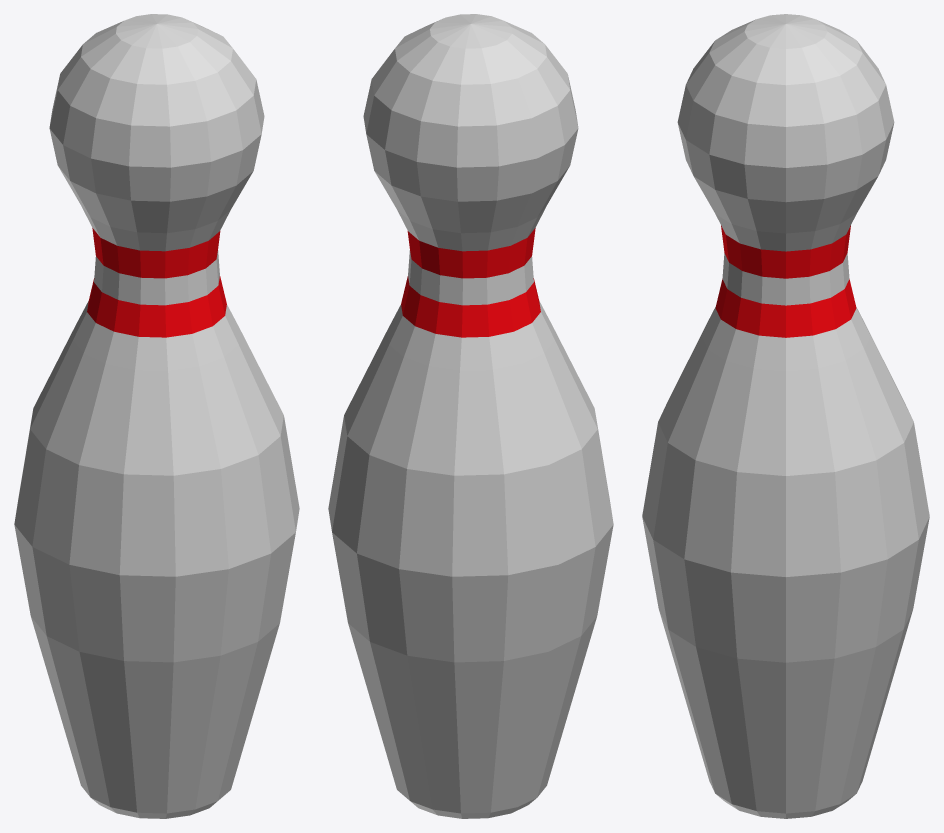
3 renders of one model, left to right at view 1: azimuth 30°, elevation 25°; view 2: azimuth 150°, elevation 25°; view 3: azimuth 270°, elevation 25°, orthographic.
Parts seen in each view (by area): view 1: BowlingPin; view 2: BowlingPin; view 3: BowlingPin.
Part boxes in pixels (x1,y1,x2,y2): BowlingPin: (14,14,299,818); BowlingPin: (328,14,613,818); BowlingPin: (642,14,929,818).
Size of the model in its own units: 613 by 1803 by 613.
